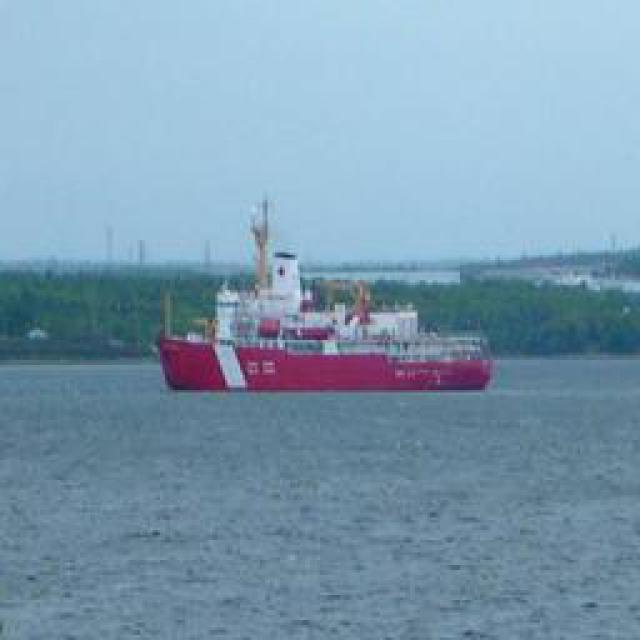Ship: (156, 251, 494, 396)
